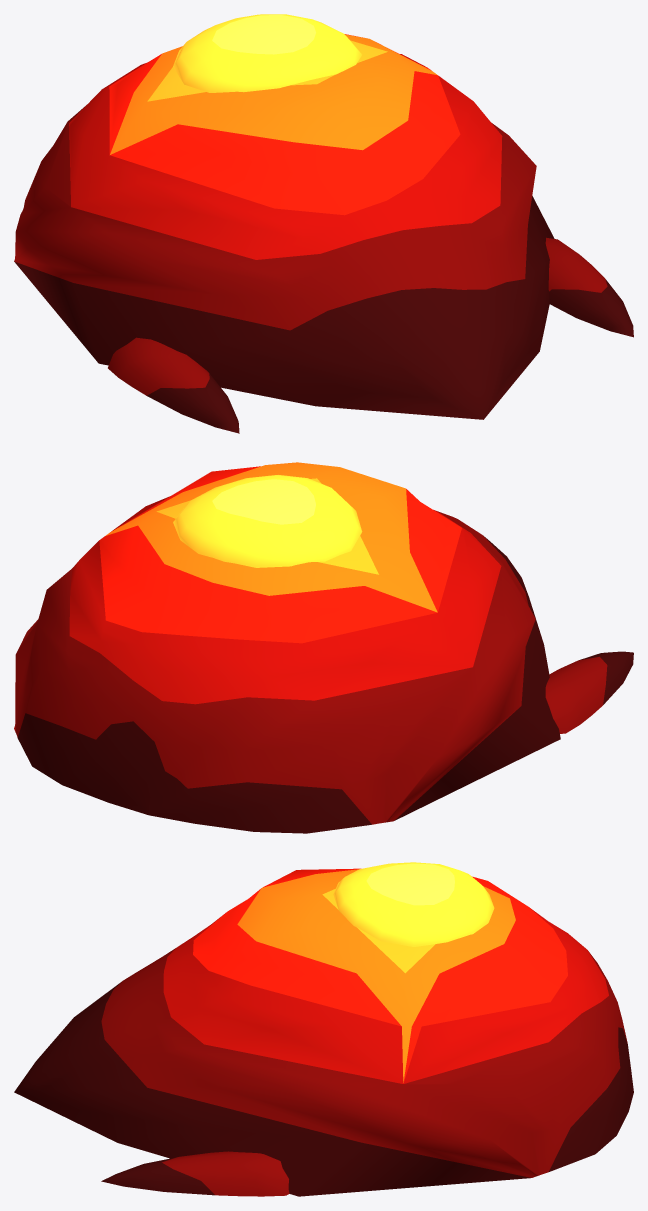
Rendered from shot_megacannon_2.glb.
The picture shows the model from 3 angles, top to bottom: view 1: azimuth 30°, elevation 25°; view 2: azimuth 150°, elevation 25°; view 3: azimuth 270°, elevation 25°; orthographic projection. The views are drawn at different scales.
Parts seen in each view (by area): view 1: shot_megacannon_2_fire, shot_megacannon_2_core, shot_megacannon_2_tongue0, shot_megacannon_2_tongue1; view 2: shot_megacannon_2_fire, shot_megacannon_2_core, shot_megacannon_2_tongue0; view 3: shot_megacannon_2_fire, shot_megacannon_2_core, shot_megacannon_2_tongue1.
Boxes of the visible parts, x1=… form: shot_megacannon_2_fire: x1=14, y1=34, x2=554, y2=419; shot_megacannon_2_core: x1=173, y1=14, x2=361, y2=92; shot_megacannon_2_tongue0: x1=108, y1=337, x2=239, y2=433; shot_megacannon_2_tongue1: x1=545, y1=237, x2=633, y2=337; shot_megacannon_2_fire: x1=14, y1=462, x2=560, y2=833; shot_megacannon_2_core: x1=173, y1=475, x2=362, y2=567; shot_megacannon_2_tongue0: x1=545, y1=651, x2=633, y2=733; shot_megacannon_2_fire: x1=14, y1=868, x2=633, y2=1196; shot_megacannon_2_core: x1=333, y1=862, x2=494, y2=946; shot_megacannon_2_tongue1: x1=101, y1=1151, x2=289, y2=1196.
Bounding box in the file's own units: 7.97 × 3.82 × 10.
